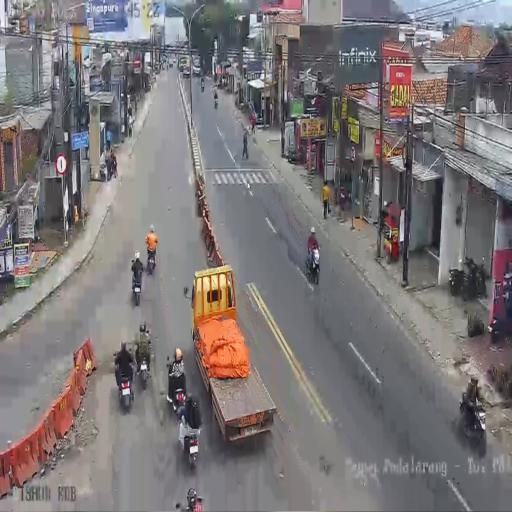3: (178, 55, 190, 77)
car: (193, 63, 201, 76), (168, 58, 173, 68)
truck: (178, 402, 202, 470), (458, 387, 487, 443), (116, 360, 135, 413), (170, 378, 188, 418), (136, 344, 151, 389), (130, 262, 144, 306), (146, 240, 156, 274), (286, 147, 299, 165), (213, 94, 218, 108), (201, 81, 204, 92), (166, 59, 169, 70)
